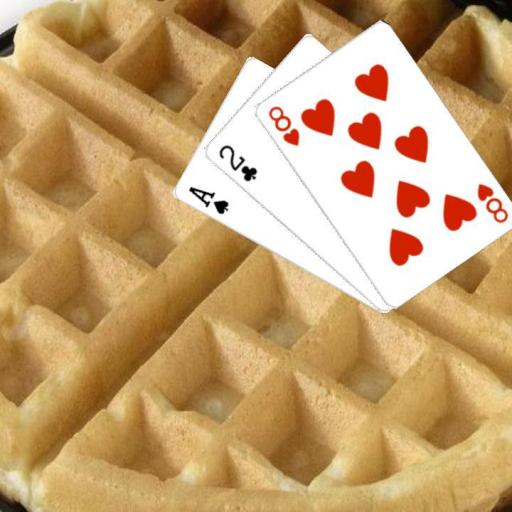2C: (215, 141, 259, 183)
8H: (264, 102, 301, 148), (473, 180, 510, 225)
AS: (185, 184, 230, 216)
